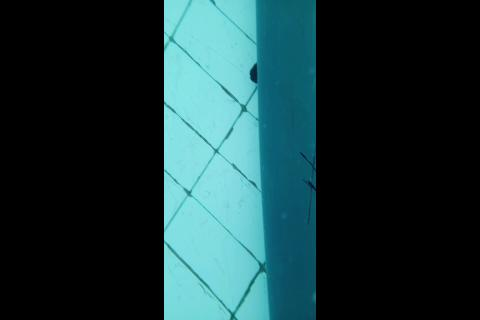keretakan: (299, 152, 316, 224)
